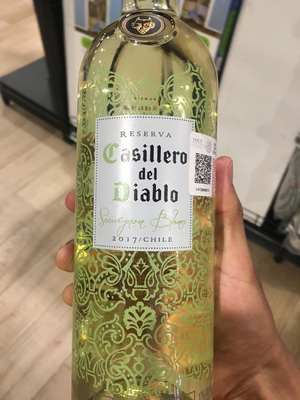casillero del diablo sauvignon blanc: (67, 13, 218, 400)
